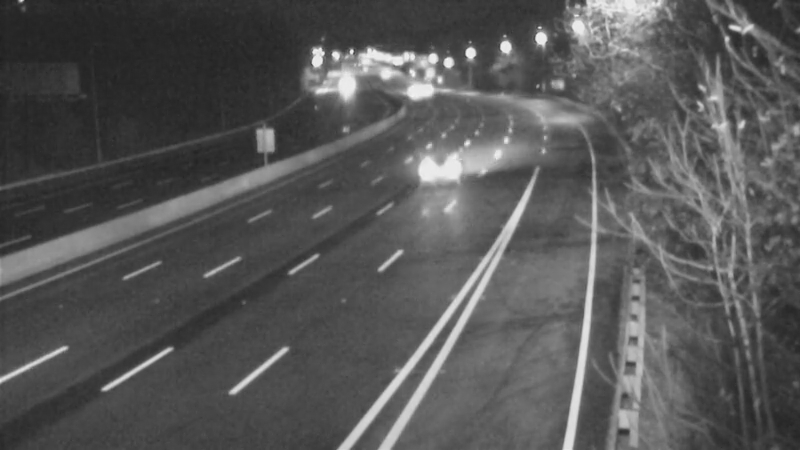vehicle: (402, 128, 482, 208), (403, 65, 453, 115), (383, 67, 433, 117), (325, 60, 375, 110)
